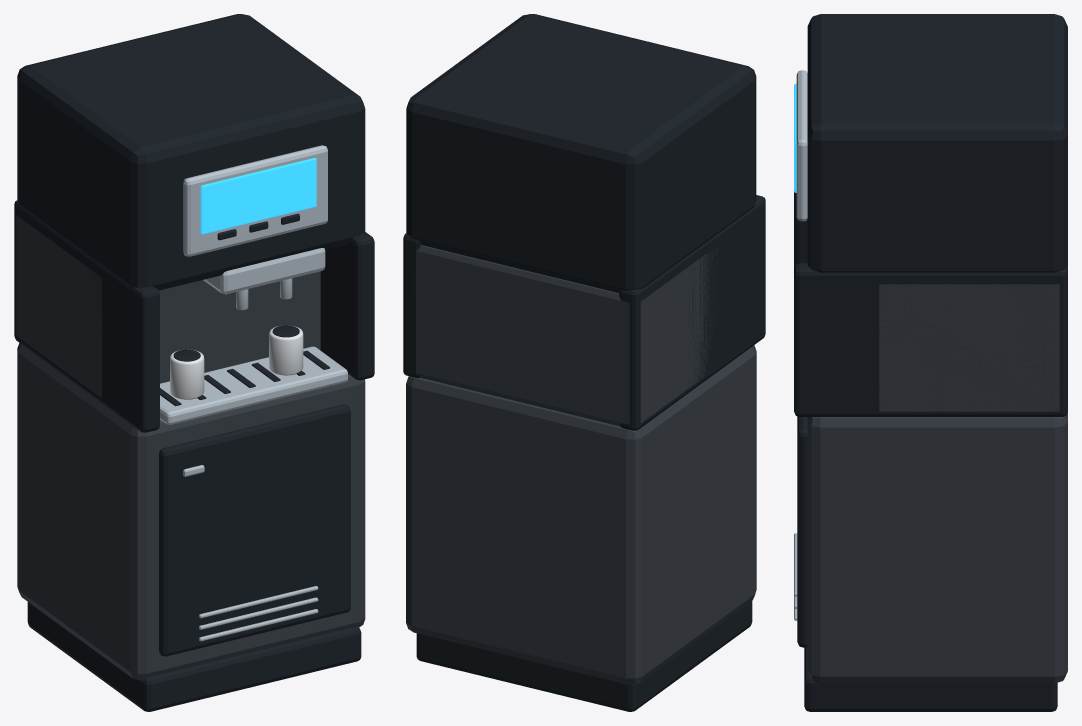
Rendered from coffee-machine.glb.
3 views of the same model, side by side, from view 1: azimuth 30°, elevation 25°; view 2: azimuth 150°, elevation 25°; view 3: azimuth 270°, elevation 25° (orthographic). The views are drawn at different scales.
Visible parts, largest first — view 1: coffee · Soft black, coffee · Graphite metal, coffee · Brushed aluminum, coffee · Active display, coffee · Warm white; view 2: coffee · Graphite metal, coffee · Soft black; view 3: coffee · Soft black, coffee · Graphite metal, coffee · Brushed aluminum.
Part boxes in pixels (x1=…): coffee · Soft black: x1=14, y1=14, x2=374, y2=711; coffee · Graphite metal: x1=16, y1=215, x2=365, y2=680; coffee · Brushed aluminum: x1=160, y1=145, x2=347, y2=641; coffee · Active display: x1=200, y1=158, x2=316, y2=234; coffee · Warm white: x1=170, y1=325, x2=303, y2=399; coffee · Graphite metal: x1=406, y1=245, x2=756, y2=684; coffee · Soft black: x1=403, y1=14, x2=765, y2=711; coffee · Soft black: x1=794, y1=14, x2=1067, y2=711; coffee · Graphite metal: x1=807, y1=265, x2=1067, y2=683; coffee · Brushed aluminum: x1=794, y1=70, x2=807, y2=620.
Bounding box in the file's own units: 0.85 × 1.95 × 0.82.
